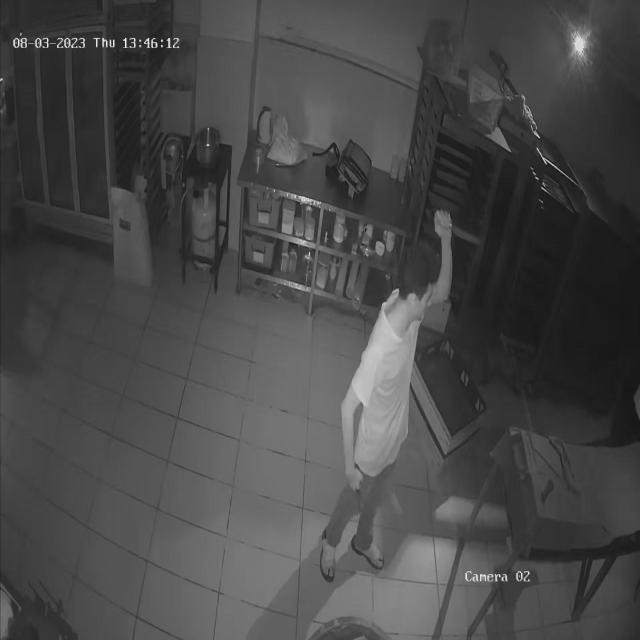Knife: (428, 203, 494, 257)
